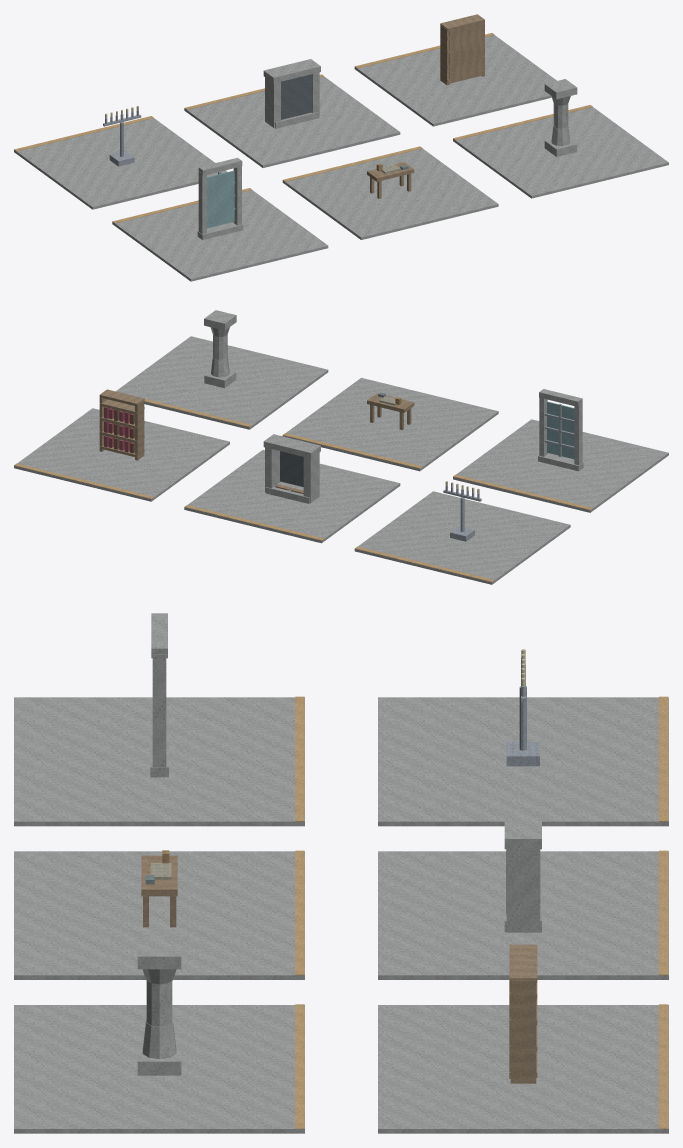
The model's file is level_blockout_kit_castle_p09.glb.
3 views of the same model, one above another, from view 1: azimuth 30°, elevation 25°; view 2: azimuth 150°, elevation 25°; view 3: azimuth 270°, elevation 25° (orthographic). The views are drawn at different scales.
Visible parts, largest first — view 1: level_blockout_kit_castle_p09; view 2: level_blockout_kit_castle_p09; view 3: level_blockout_kit_castle_p09.
Boxes of the visible parts, <box> form: level_blockout_kit_castle_p09: <box>14,14,668,281</box>; level_blockout_kit_castle_p09: <box>14,310,668,584</box>; level_blockout_kit_castle_p09: <box>14,613,668,1133</box>.
Bounding box in the file's own units: 19.65 × 2.83 × 12.6.
12 materials, 12 textured.
